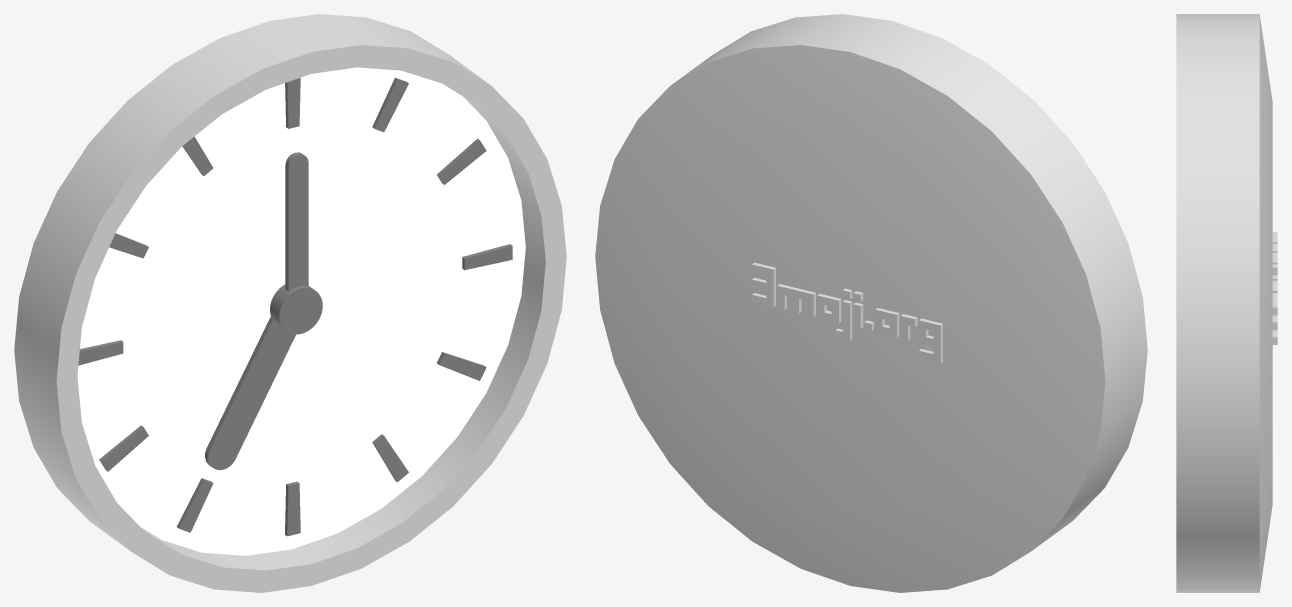
The model's file is seven_oclock.gltf.
3 views of the same model, side by side, from view 1: azimuth 30°, elevation 25°; view 2: azimuth 150°, elevation 25°; view 3: azimuth 270°, elevation 25° (orthographic).
Visible parts, largest first — view 1: Circle.2471; view 2: Circle.2471; view 3: Circle.2471.
Boxes of the visible parts, x1,y1,x2,y2 form: Circle.2471: (14,14,566,592); Circle.2471: (595,14,1147,592); Circle.2471: (1176,14,1277,592).
Size of the model in its own units: 2.33 by 2.33 by 0.4069.
Materials: 1 (1 with a texture image).
